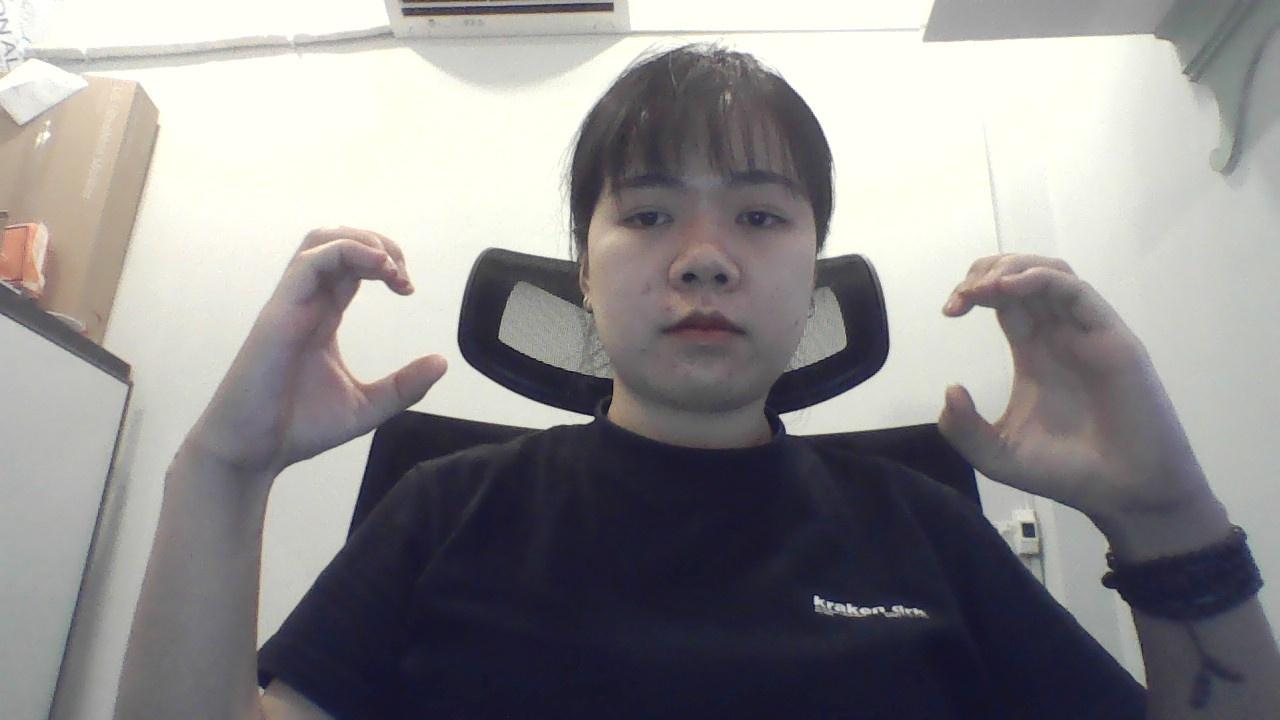C: (926, 234, 1226, 528), (184, 205, 451, 478)
